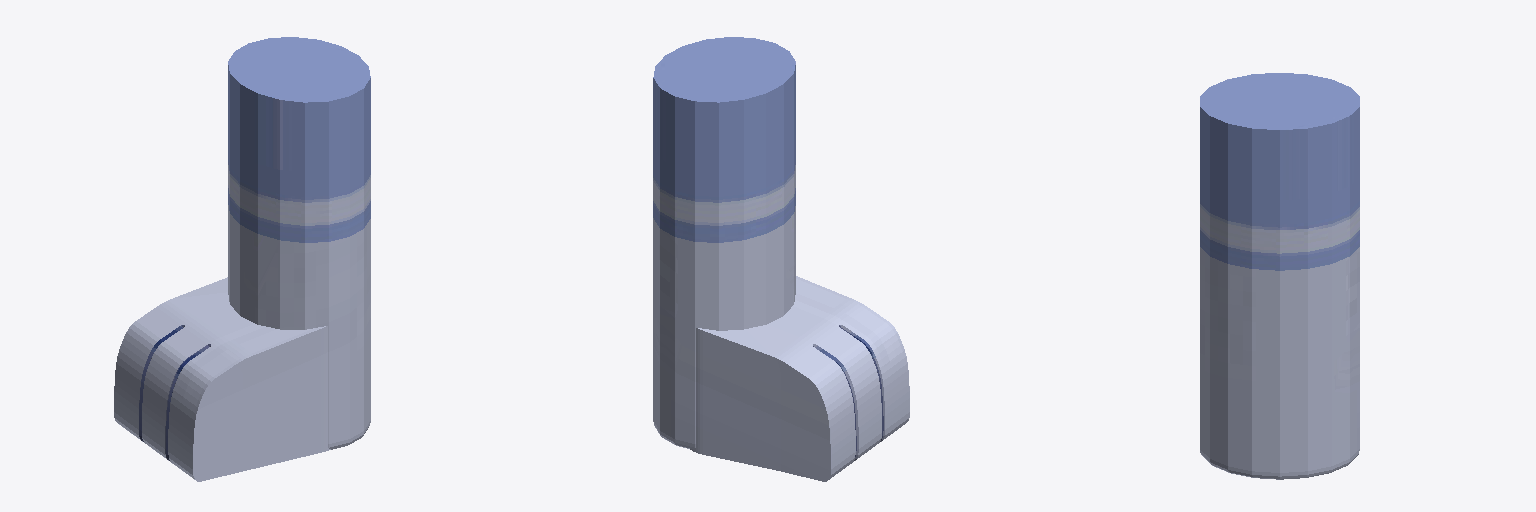
3 views of the same model, side by side, from view 1: azimuth 30°, elevation 25°; view 2: azimuth 150°, elevation 25°; view 3: azimuth 270°, elevation 25° (orthographic).
Parts seen in each view (by area): view 1: Cylinder015; view 2: Cylinder015; view 3: Cylinder015.
Boxes of the visible parts, x1=… form: Cylinder015: x1=114, y1=37, x2=370, y2=481; Cylinder015: x1=653, y1=37, x2=909, y2=481; Cylinder015: x1=1200, y1=73, x2=1359, y2=479.
Bounding box in the file's own units: 13.98 × 22.9 × 9.44.
1 materials, 1 textured.